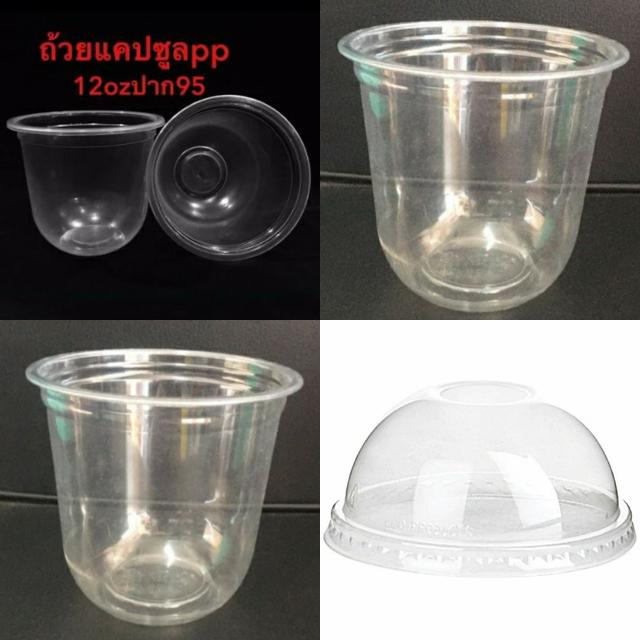Single-Use-Plastic: (339, 22, 629, 312), (28, 349, 302, 625), (325, 381, 635, 576), (148, 95, 310, 261), (6, 110, 165, 256)
